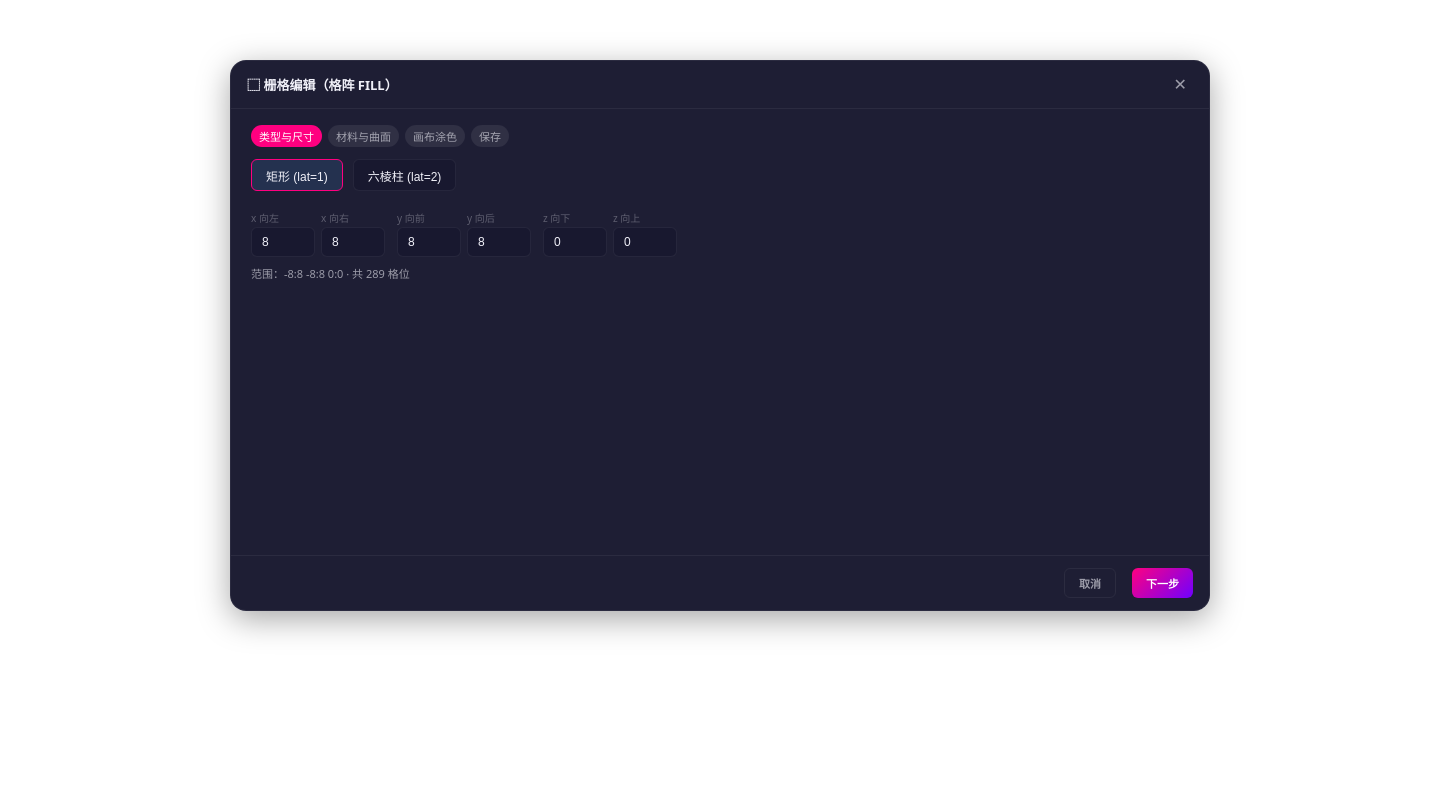
Test: 项12：大格阵体积告警（保存摘要非阻塞提示） › x 向右 99 + y 向后 99 → 10000 格位 → 保存摘要显示「格阵体积过大」
Replace the text in the number field below "x 向右" with "99" at (353, 242), box [321, 227, 385, 257]
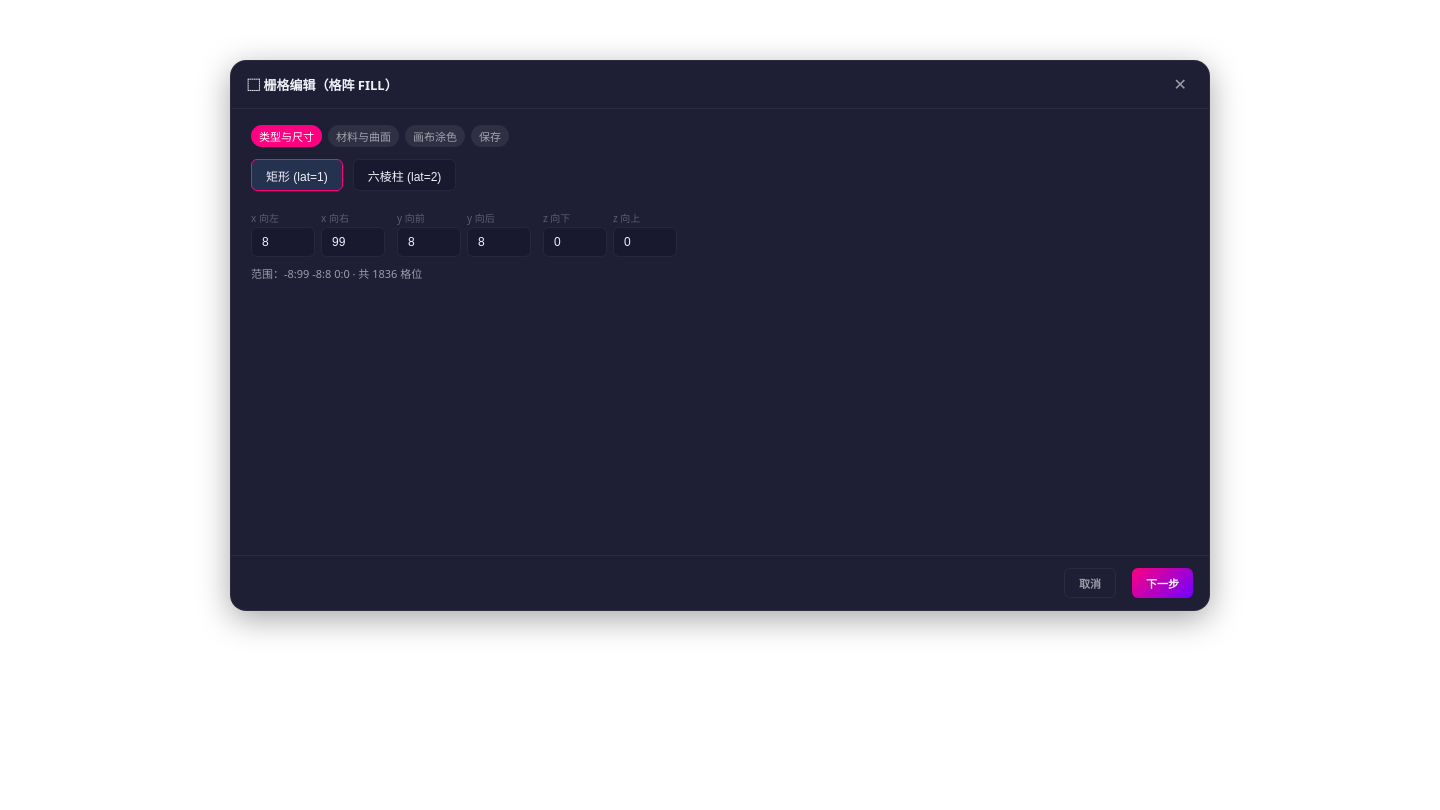
Replace the text in the number field below "y 向后" with "99" at (499, 242), box [467, 227, 531, 257]
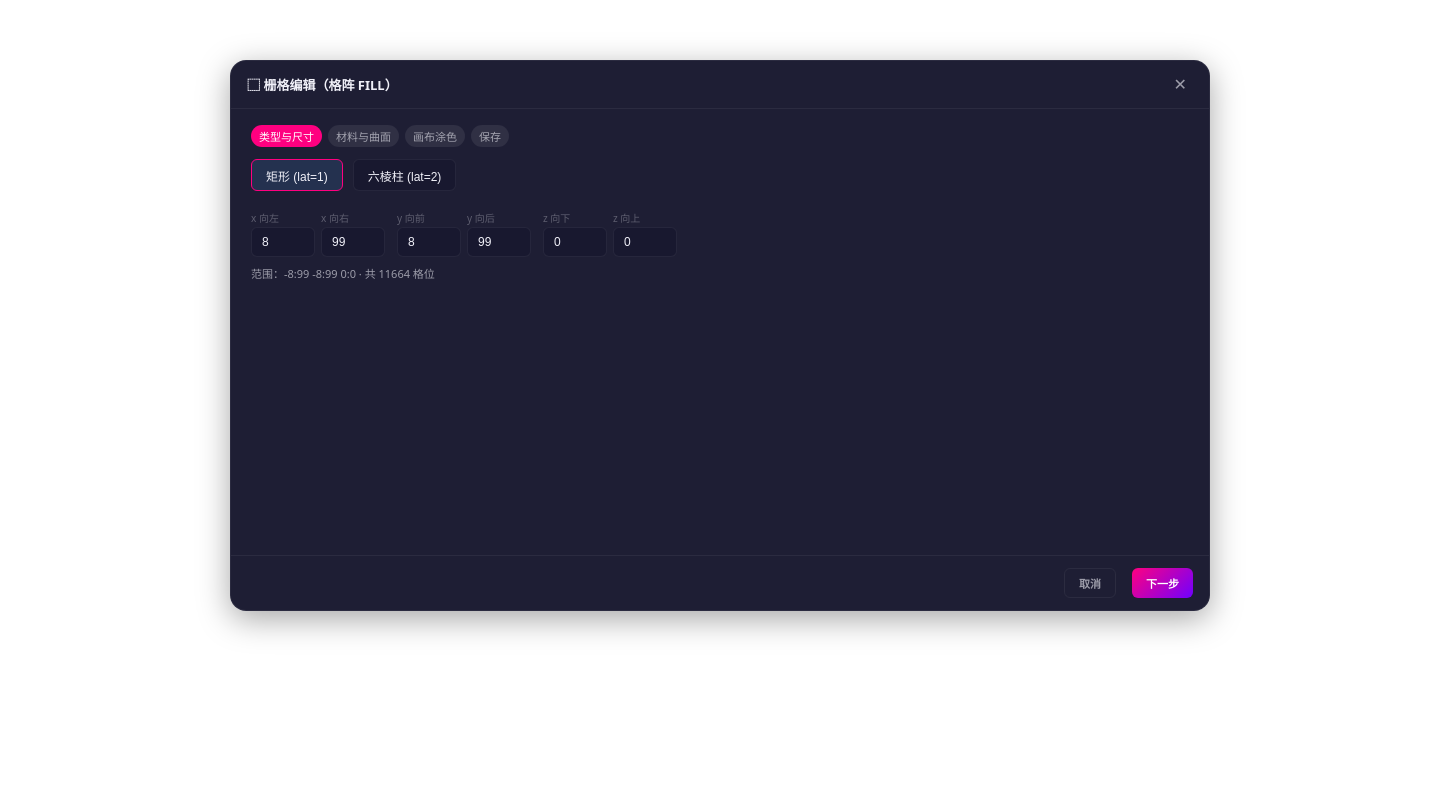
Click the text "保存" at (490, 136), box [471, 125, 509, 147]
(page scrolled)
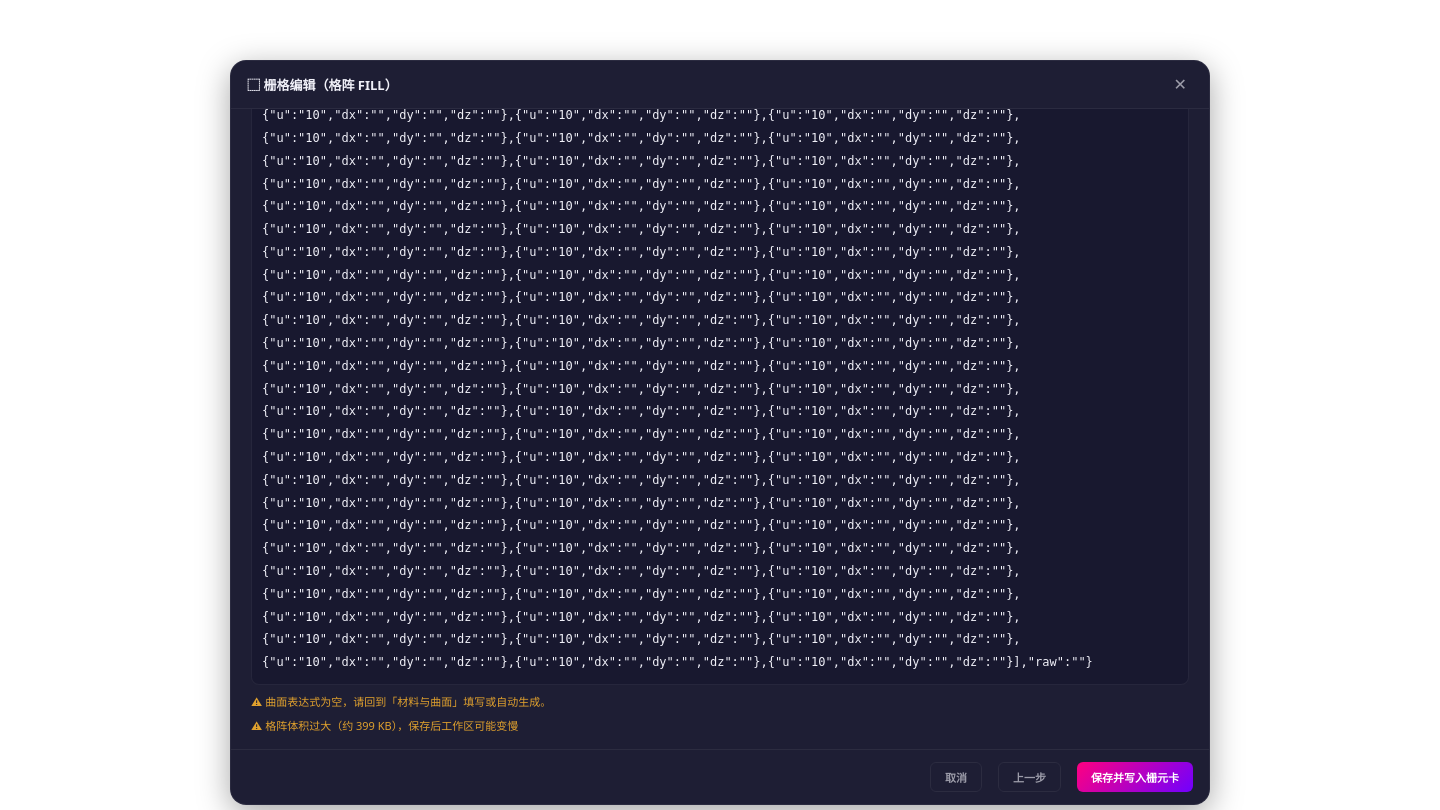
Check: the text "⚠ 格阵体积过大（约 399 KB），保存后工作区可能变慢" is shown, box [251, 718, 518, 733]
